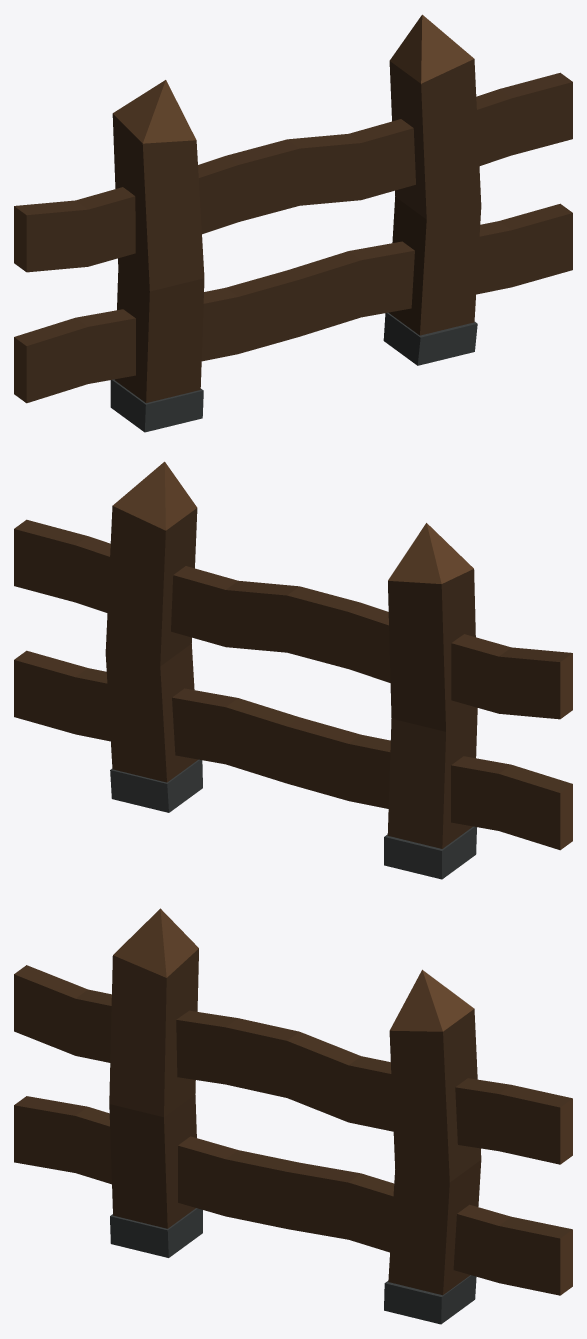
Rendered from Fence_12_Dark_Brown.fbx.
3 renders of one model, top to bottom at view 1: azimuth 30°, elevation 25°; view 2: azimuth 150°, elevation 25°; view 3: azimuth 330°, elevation 25°, orthographic.
Parts seen in each view (by area): view 1: Fence_12_Dark_Brown; view 2: Fence_12_Dark_Brown; view 3: Fence_12_Dark_Brown.
Part boxes in pixels (x1,y1,x2,y2): Fence_12_Dark_Brown: (14, 14, 572, 432); Fence_12_Dark_Brown: (14, 461, 572, 879); Fence_12_Dark_Brown: (14, 908, 572, 1324).
Bounding box in the file's own units: 200 × 117 × 23.71.
